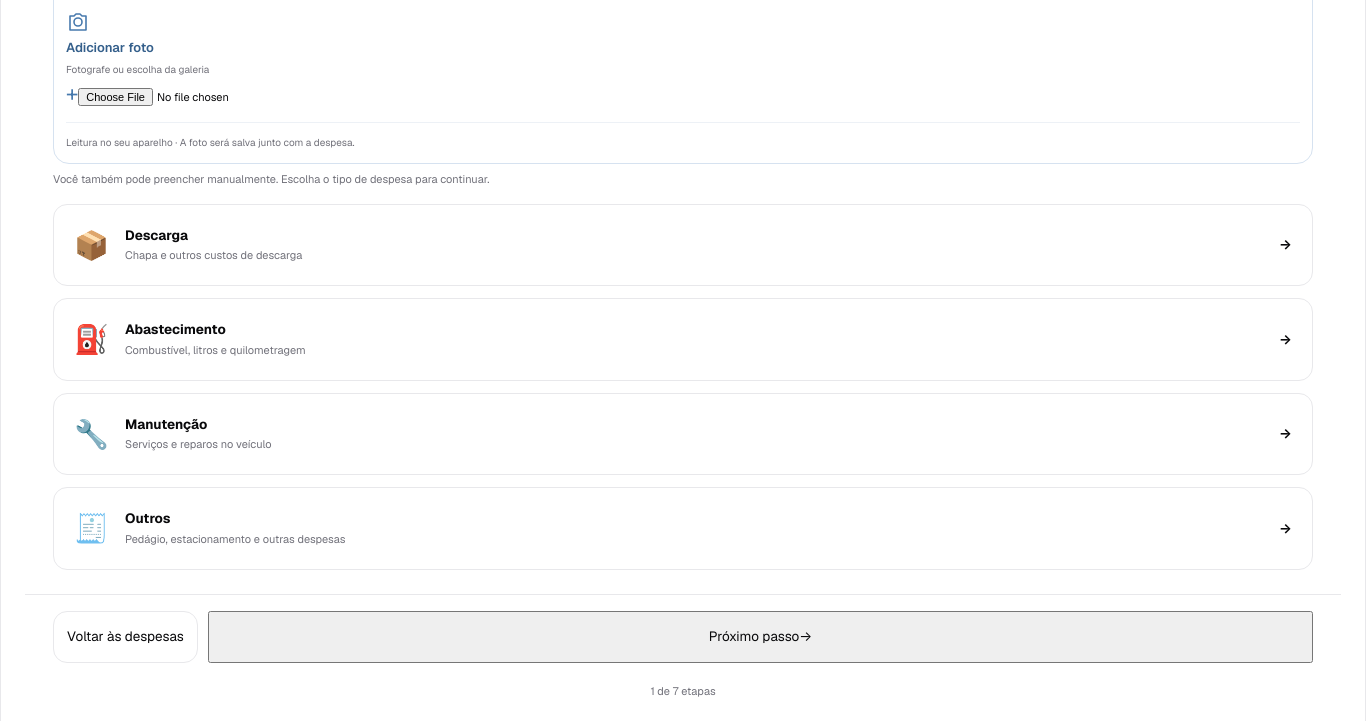
abre a correção de horário quando o abastecimento não tem hora reconhecida
(page scrolled)
Click the button "⛽ Abastecimento Combustível, litros e quilometragem →": (91, 339) [53,298,1313,381]
(page scrolled)
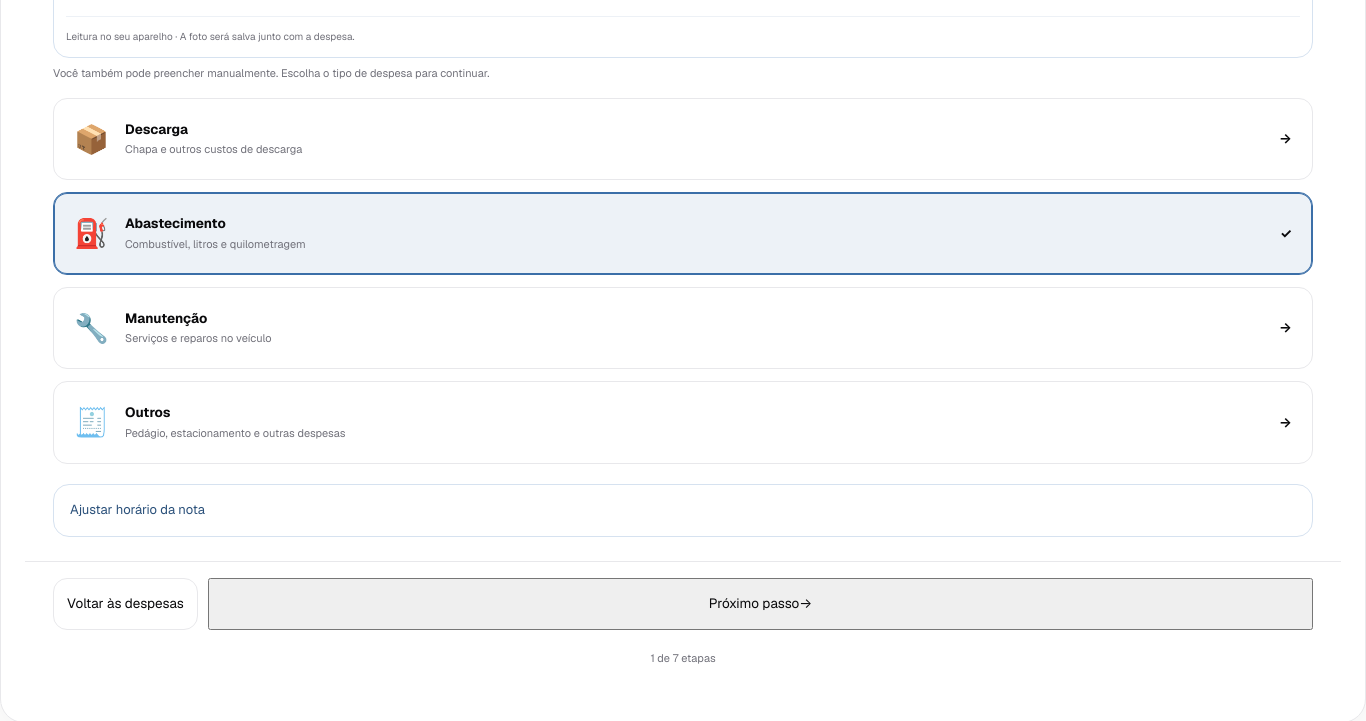
Click the button "Próximo passo→": (760, 604) [208,578,1313,630]
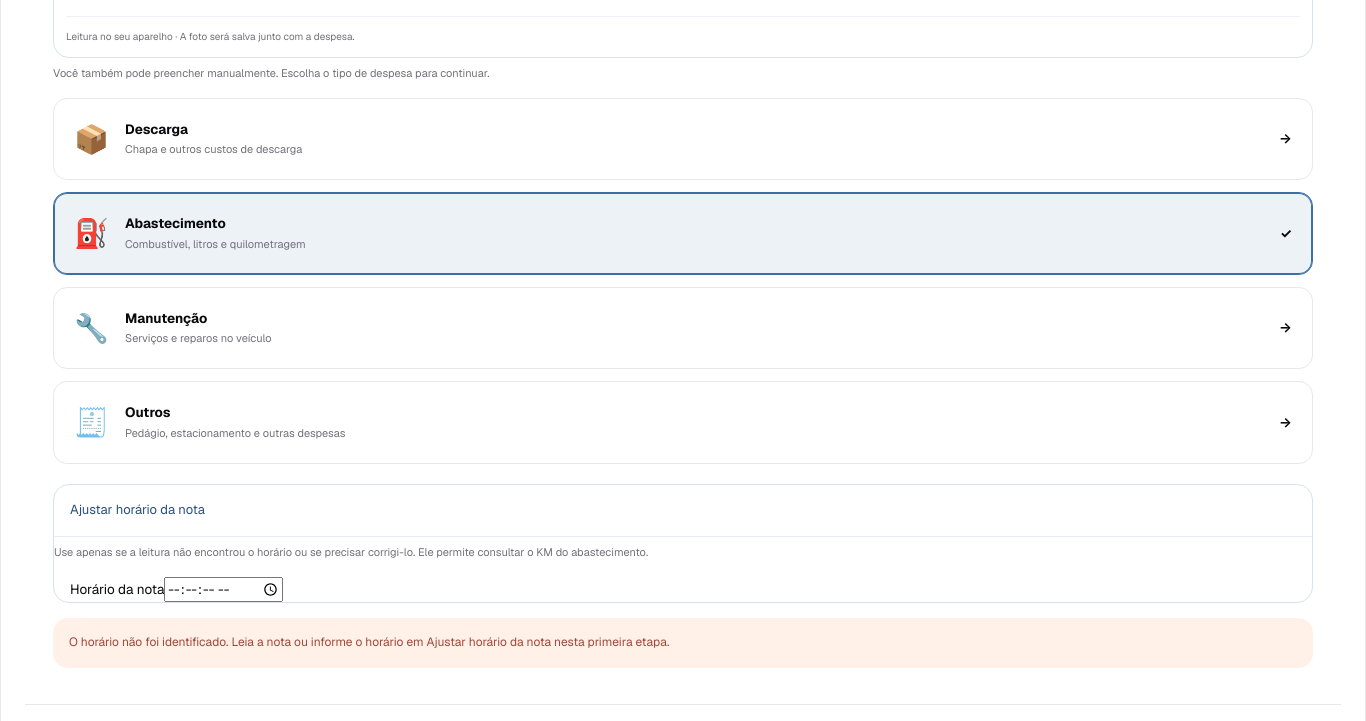
Now the message shows "horário", box [69,634,670,650]
